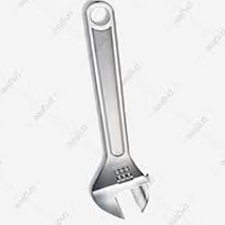Wrench: (65, 1, 159, 217)
